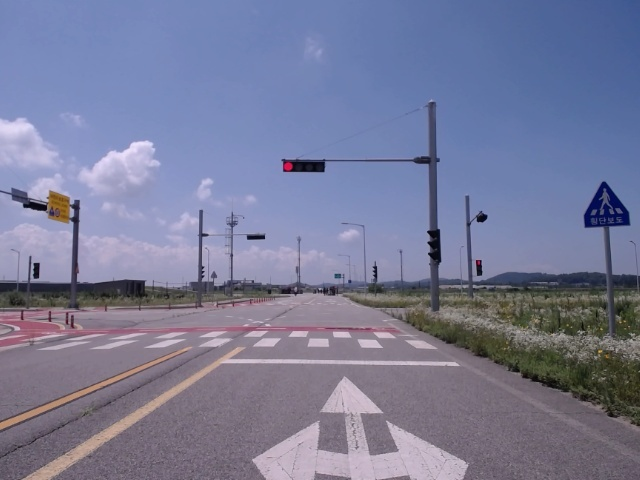red_4: (282, 161, 325, 172)
